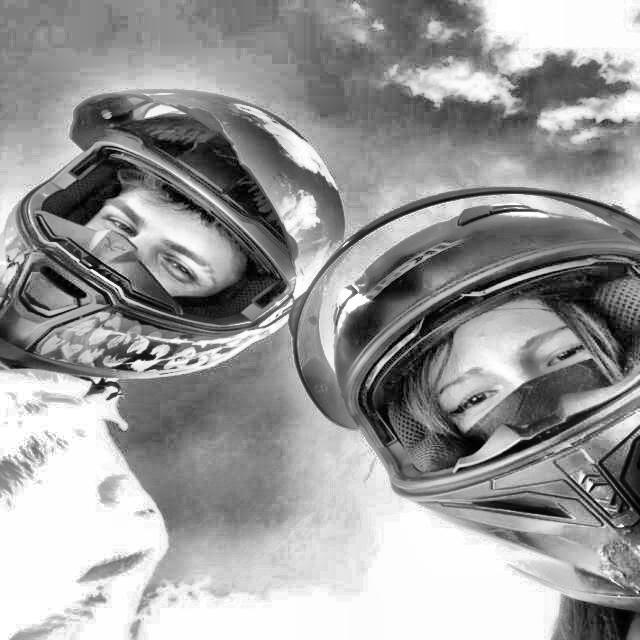Helmet: (283, 179, 640, 621), (0, 80, 350, 383)
